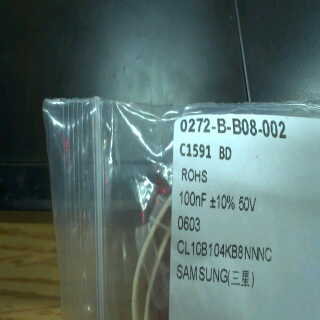100nF: (174, 190, 208, 209)
